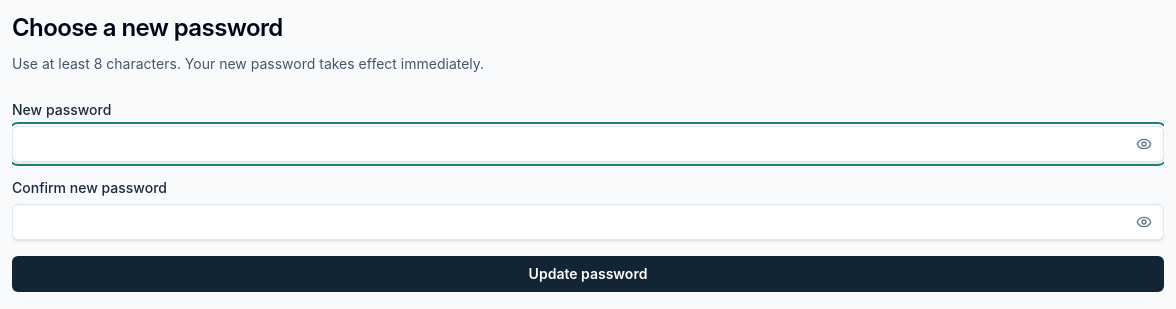
Test: login and recovery › updates the password and clears recovery context after valid recovery
This screenshot has width=1176, height=309.
Type "new-password" into the password field labelled "New password" at (588, 144), box [12,126,1164,162]
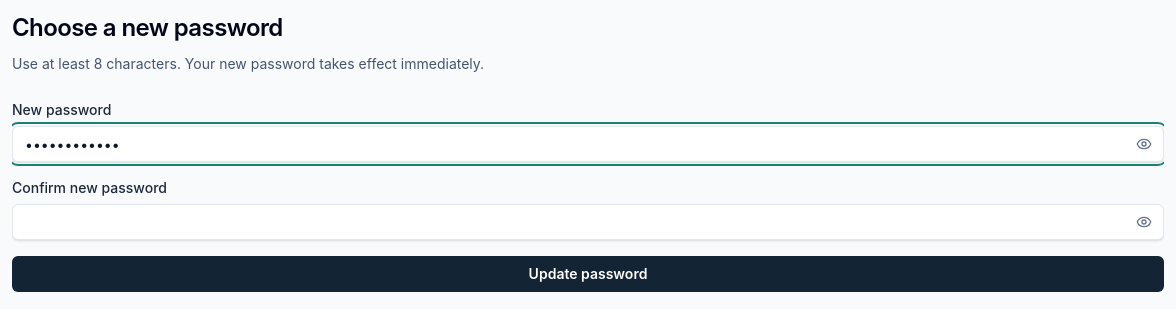
Type "new-password" into the password field labelled "Confirm new password" at (588, 222), box [12,204,1164,240]
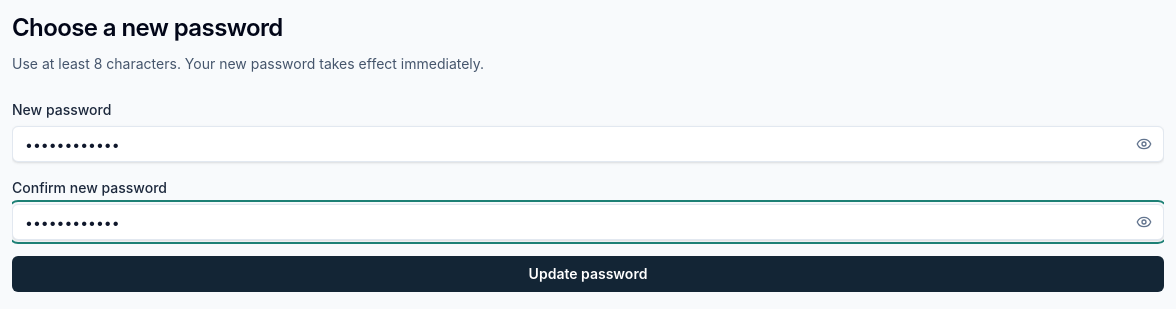
Click the button "Update password" at (588, 274), box [12,256,1164,292]
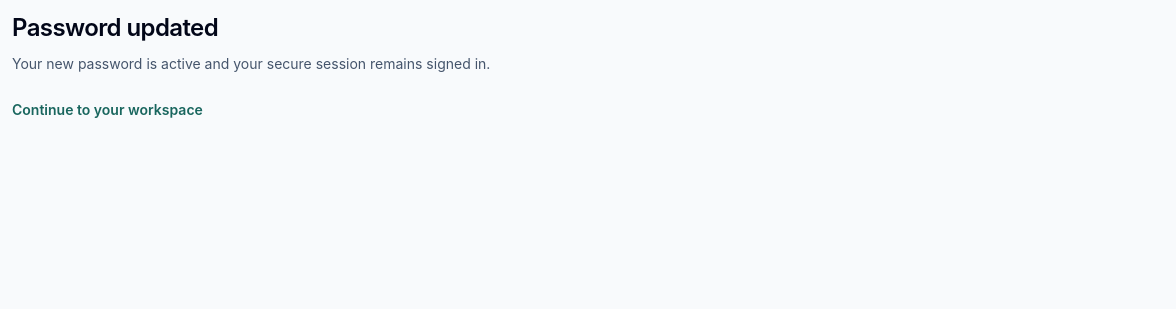
Check: the heading "Password updated" is shown, box [12,13,218,42]
